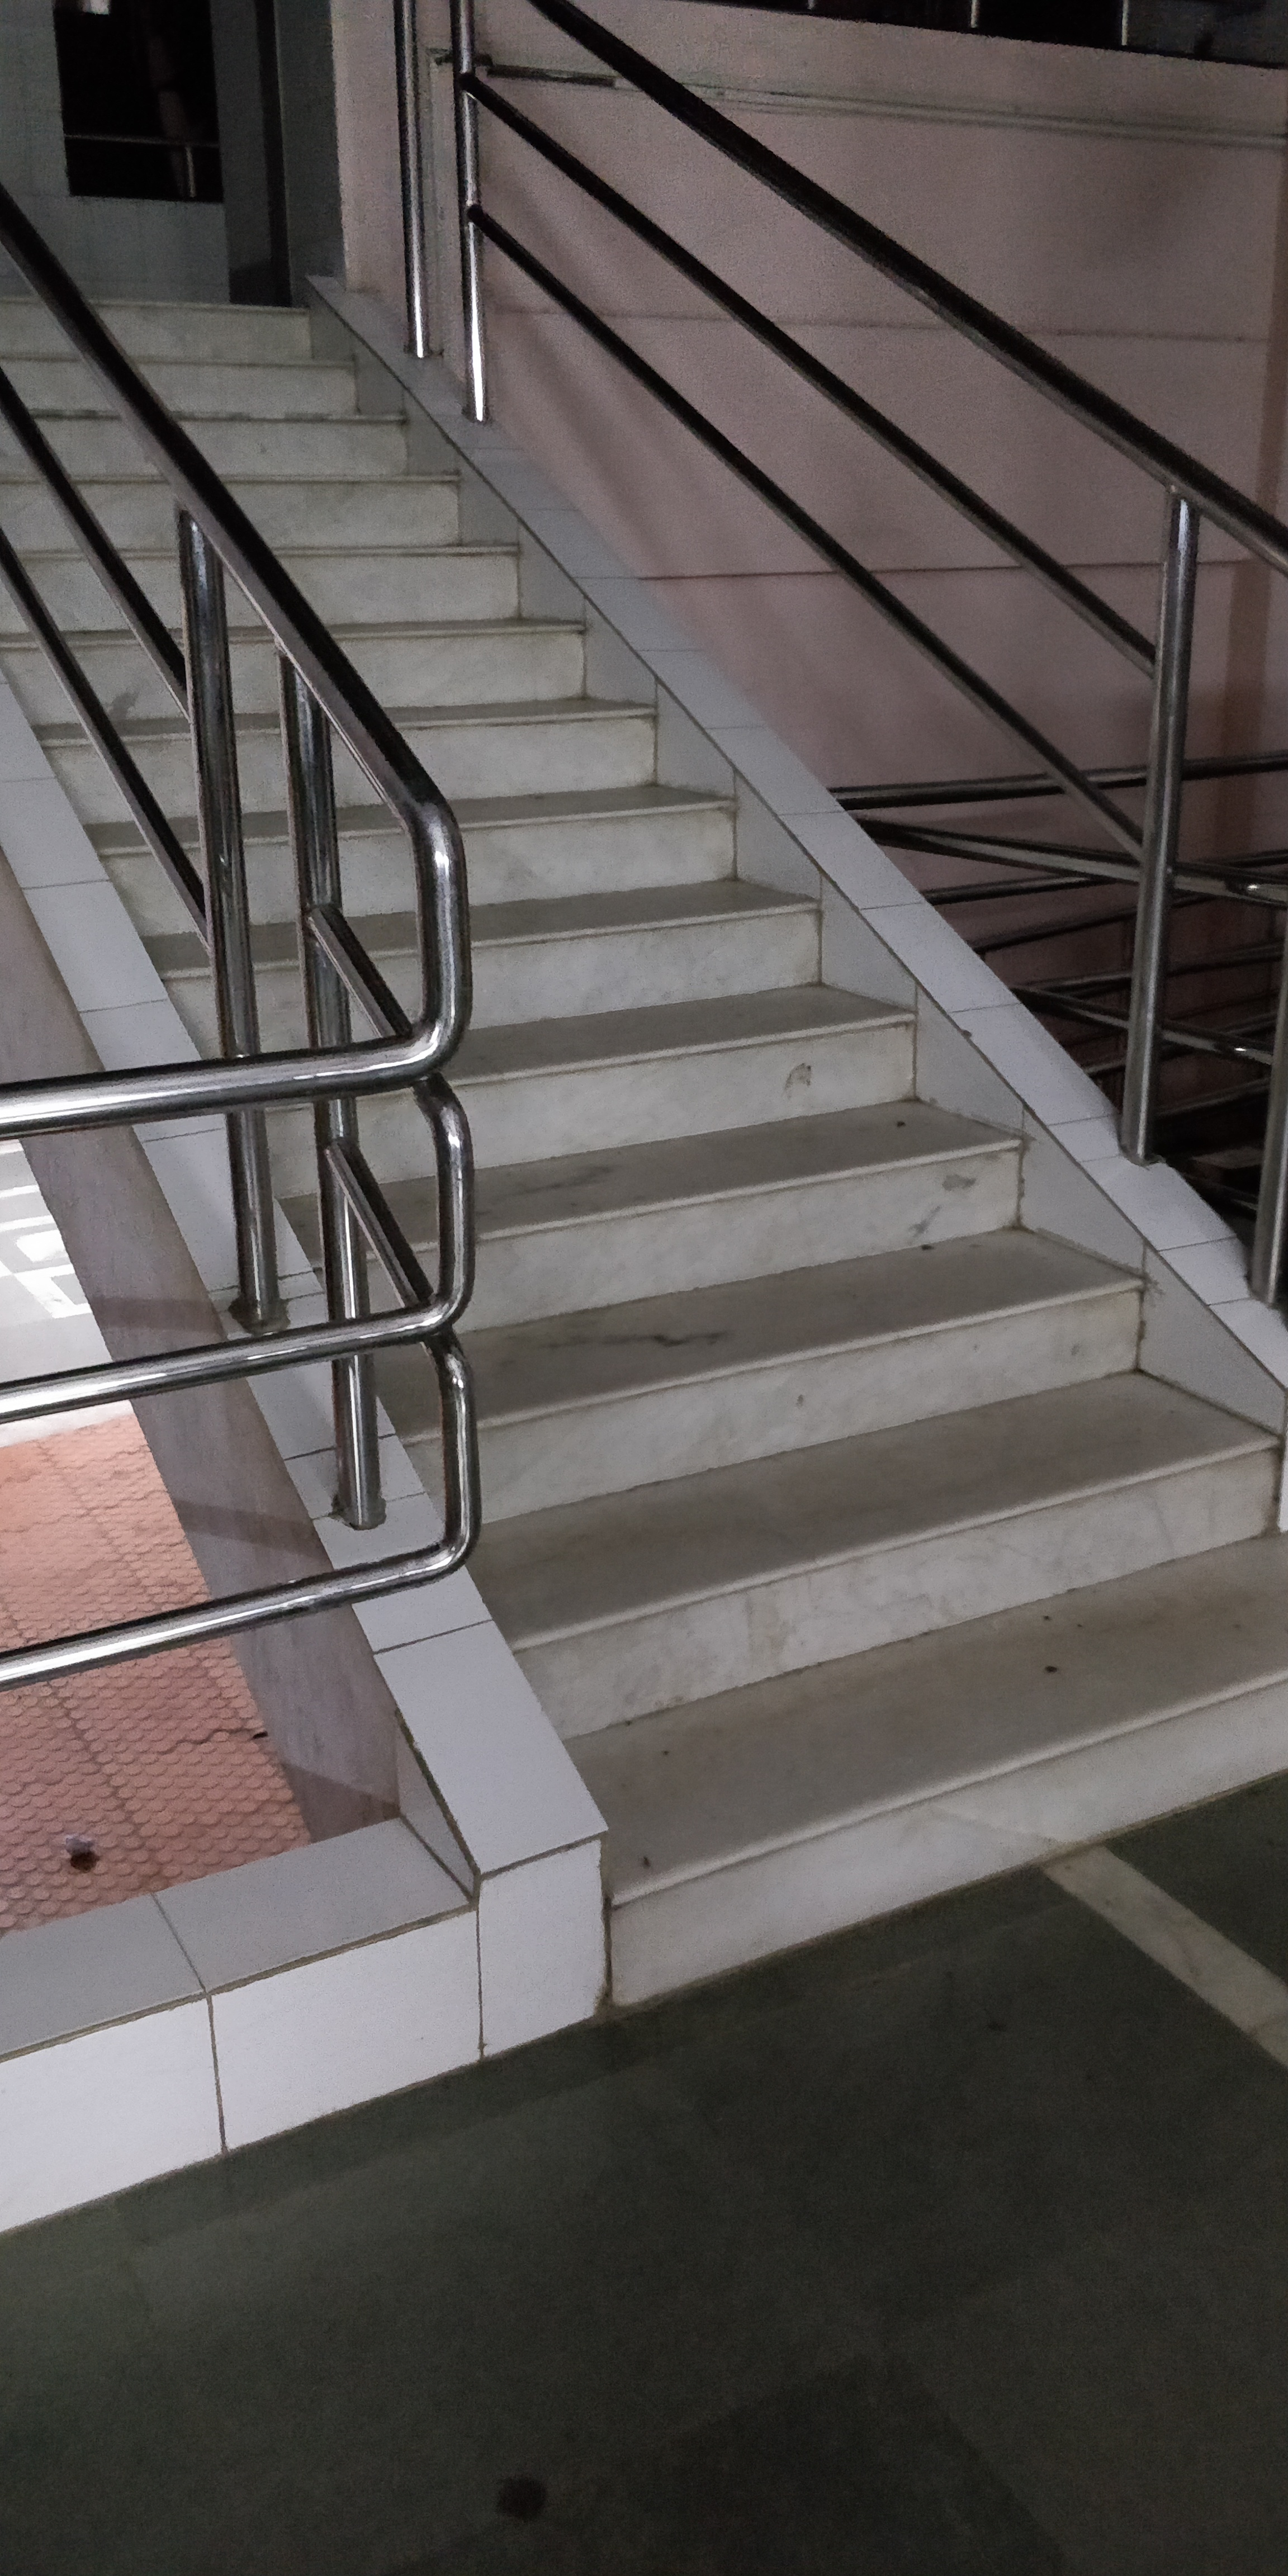stairs_up: (31, 327, 1286, 1960)
